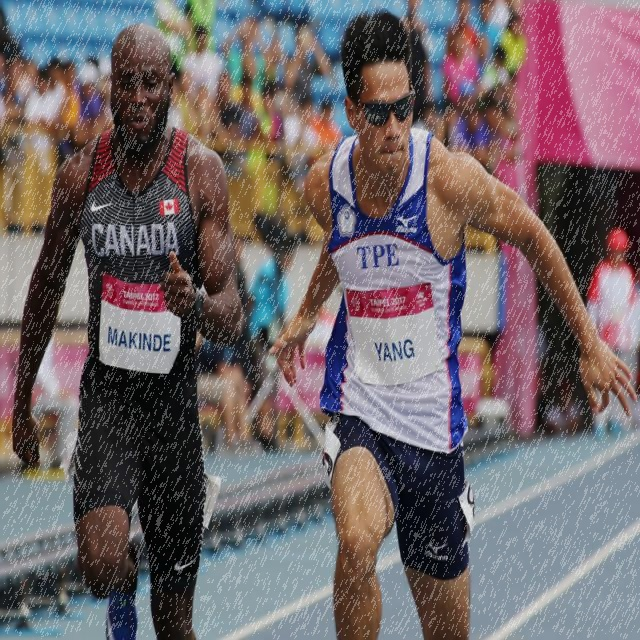pessoa: (268, 4, 639, 639), (9, 19, 248, 639), (2, 6, 532, 162), (200, 251, 262, 446), (584, 225, 638, 441), (248, 234, 296, 447), (282, 13, 332, 185), (238, 209, 277, 382), (251, 151, 295, 282), (179, 24, 224, 104)
